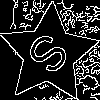S: (24, 29, 80, 85)
